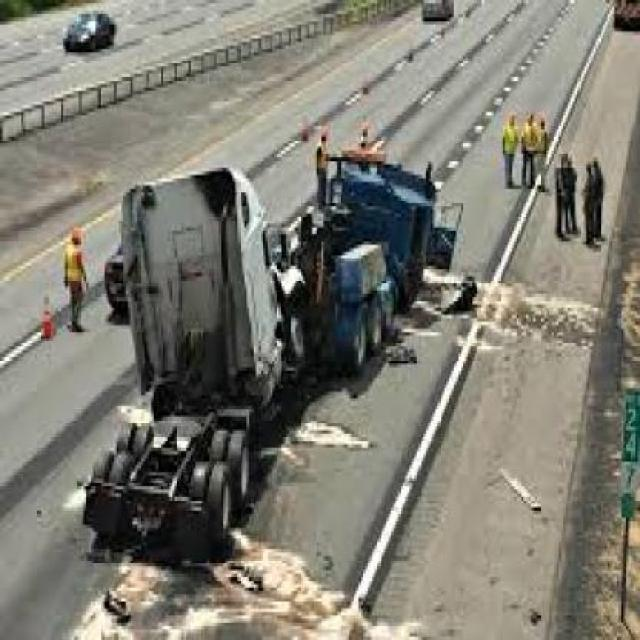accident: (54, 101, 494, 628)
